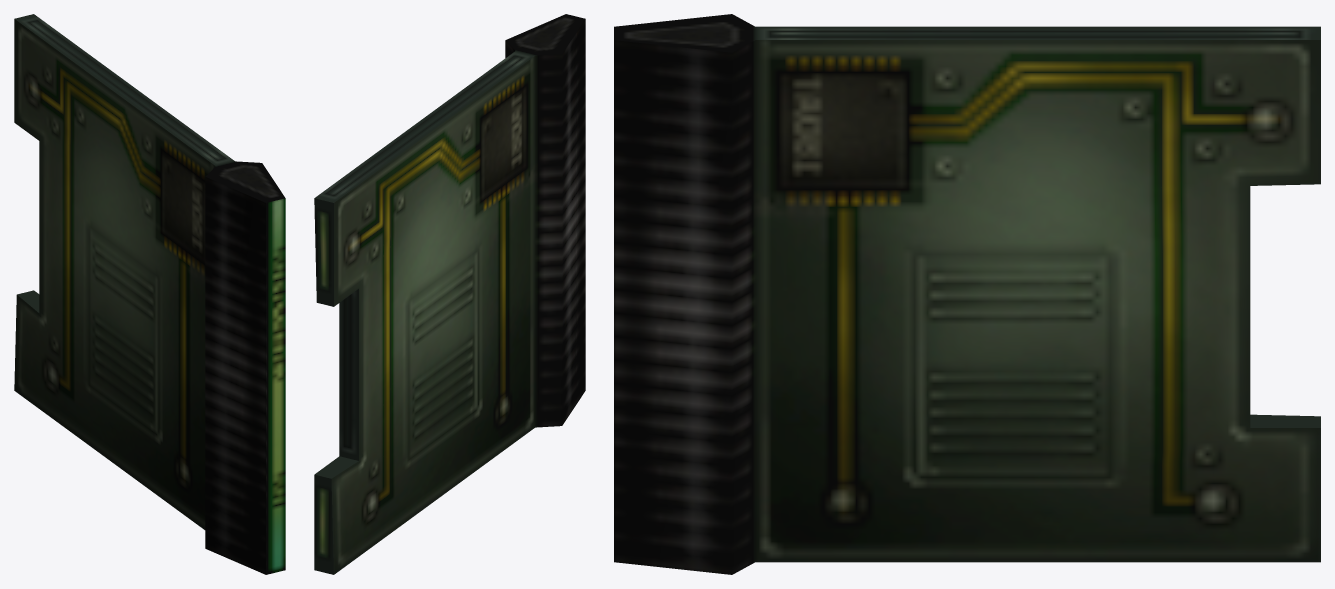
Rendered from acs52.obj.
3 renders of one model, left to right at view 1: azimuth 30°, elevation 25°; view 2: azimuth 150°, elevation 25°; view 3: azimuth 270°, elevation 25°, orthographic. The views are drawn at different scales.
Parts seen in each view (by area): view 1: frm-acs52; view 2: frm-acs52; view 3: frm-acs52.
Boxes of the visible parts, bbox=[...] form: frm-acs52: bbox=[14, 14, 285, 574]; frm-acs52: bbox=[314, 14, 585, 574]; frm-acs52: bbox=[614, 14, 1320, 574].
Size of the model in its own units: 0.0235 by 0.1471 by 0.1805.
Materials: 3 (3 with a texture image).
